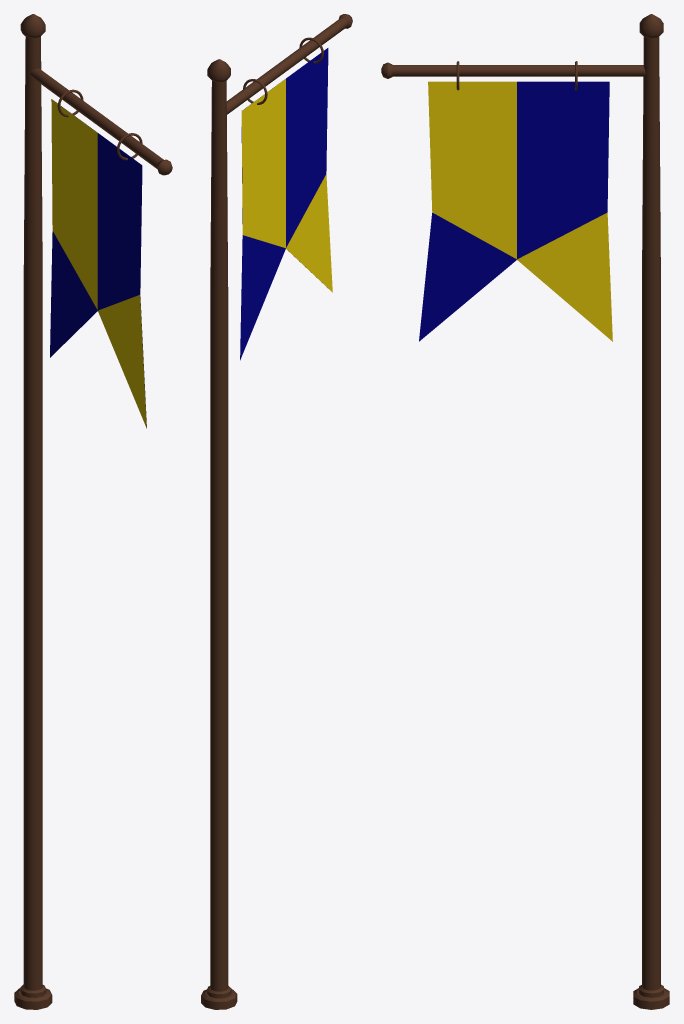
File: Flag_blue_yellow.obj
The picture shows the model from 3 angles, left to right: view 1: azimuth 30°, elevation 25°; view 2: azimuth 150°, elevation 25°; view 3: azimuth 270°, elevation 25°; orthographic projection. The views are drawn at different scales.
Visible parts, largest first — view 1: Tube001, Box004, Box003, Box002, Tube002, ChamferCyl002, ChamferCyl003; view 2: Tube001, Box004, Box003, Box002, Tube002, ChamferCyl002, ChamferCyl003; view 3: Box004, Tube001, Box002, Box001, Tube002.
Part boxes in pixels (x1,y1,x2,y2): Tube001: (23,36,42,990); Box004: (51,99,146,428); Box003: (50,102,142,357); Box002: (50,176,142,357); Tube002: (30,68,163,168); ChamferCyl002: (14,988,52,1009); ChamferCyl003: (20,14,45,37); Tube001: (210,80,228,991); Box004: (241,79,332,292); Box003: (241,48,328,247); Box002: (240,235,285,360); Tube002: (226,18,347,114); ChamferCyl002: (201,989,237,1009); ChamferCyl003: (207,59,230,82); Box004: (428,81,612,341); Tube001: (642,36,660,990); Box002: (517,81,609,259); Box001: (419,212,516,341); Tube002: (392,65,645,76).
Size of the model in its own units: 2.58 by 73.53 by 19.44.
